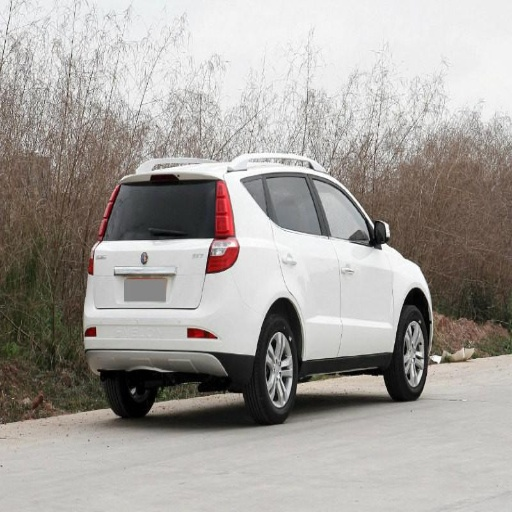back_bumper: (84, 269, 265, 374)
back_right_door: (268, 173, 338, 354)
trunk: (88, 240, 211, 324)
